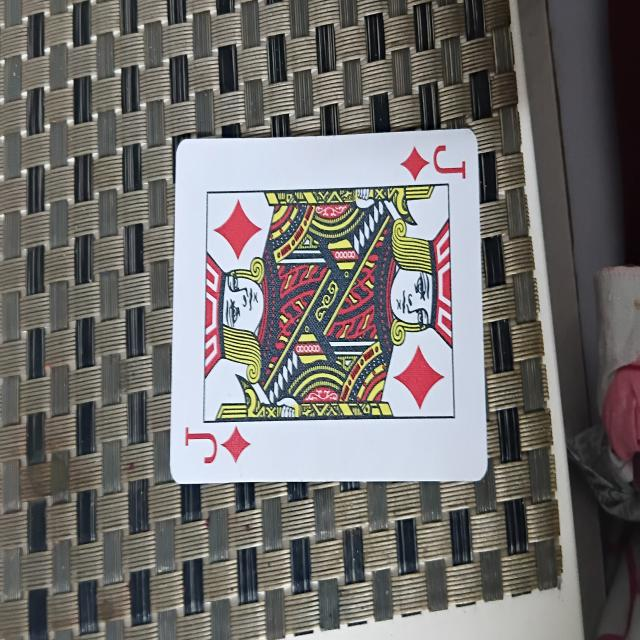JD: (168, 124, 482, 488)
